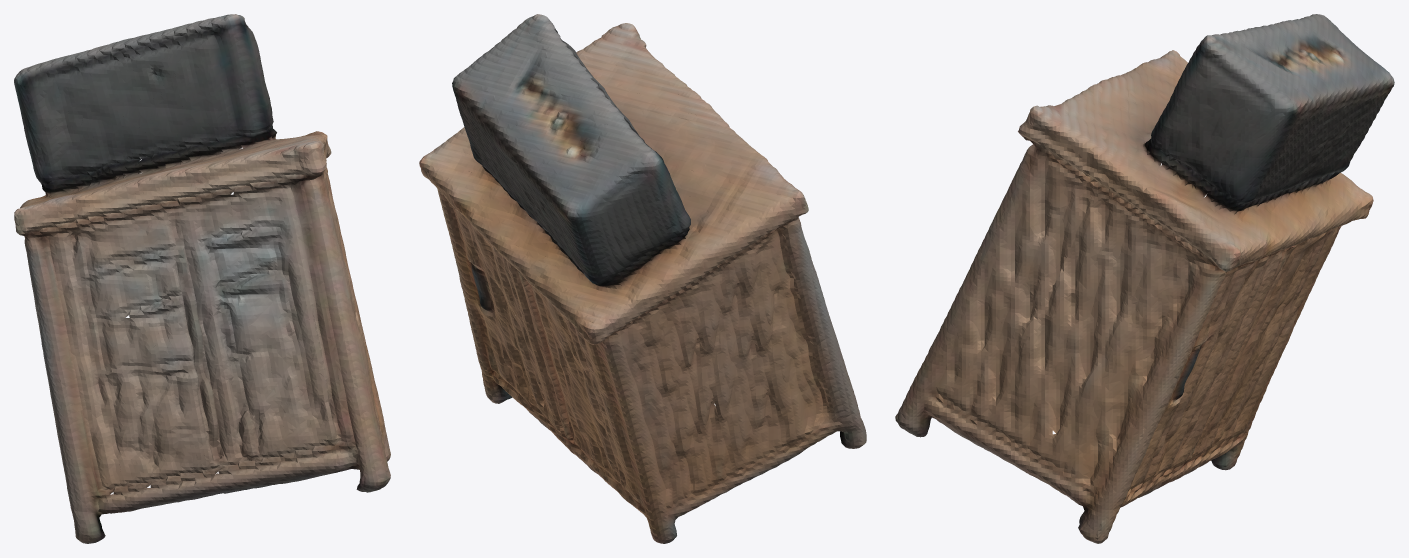
The model's file is speaker.glb.
The picture shows the model from 3 angles, left to right: view 1: azimuth 30°, elevation 25°; view 2: azimuth 150°, elevation 25°; view 3: azimuth 270°, elevation 25°; orthographic projection. The views are drawn at different scales.
Parts seen in each view (by area): view 1: geometry_0; view 2: geometry_0; view 3: geometry_0.
Part boxes in pixels (left/top/right/bottom): geometry_0: left=14, top=14, right=390, bottom=543; geometry_0: left=419, top=14, right=866, bottom=543; geometry_0: left=895, top=14, right=1394, bottom=543.
Bounding box in the file's own units: 0.7542 × 0.9888 × 0.9035.
